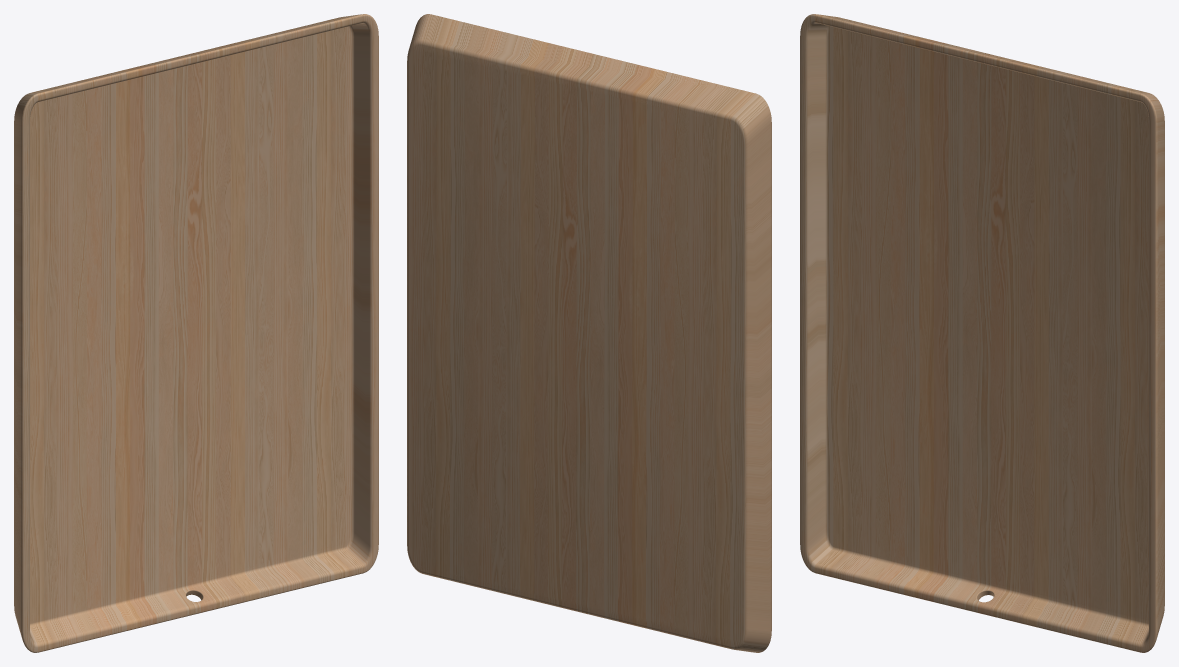
The picture shows the model from 3 angles, left to right: view 1: azimuth 30°, elevation 25°; view 2: azimuth 150°, elevation 25°; view 3: azimuth 330°, elevation 25°; orthographic projection.
Size of the model in its own units: 0.6685 by 1 by 0.057.
